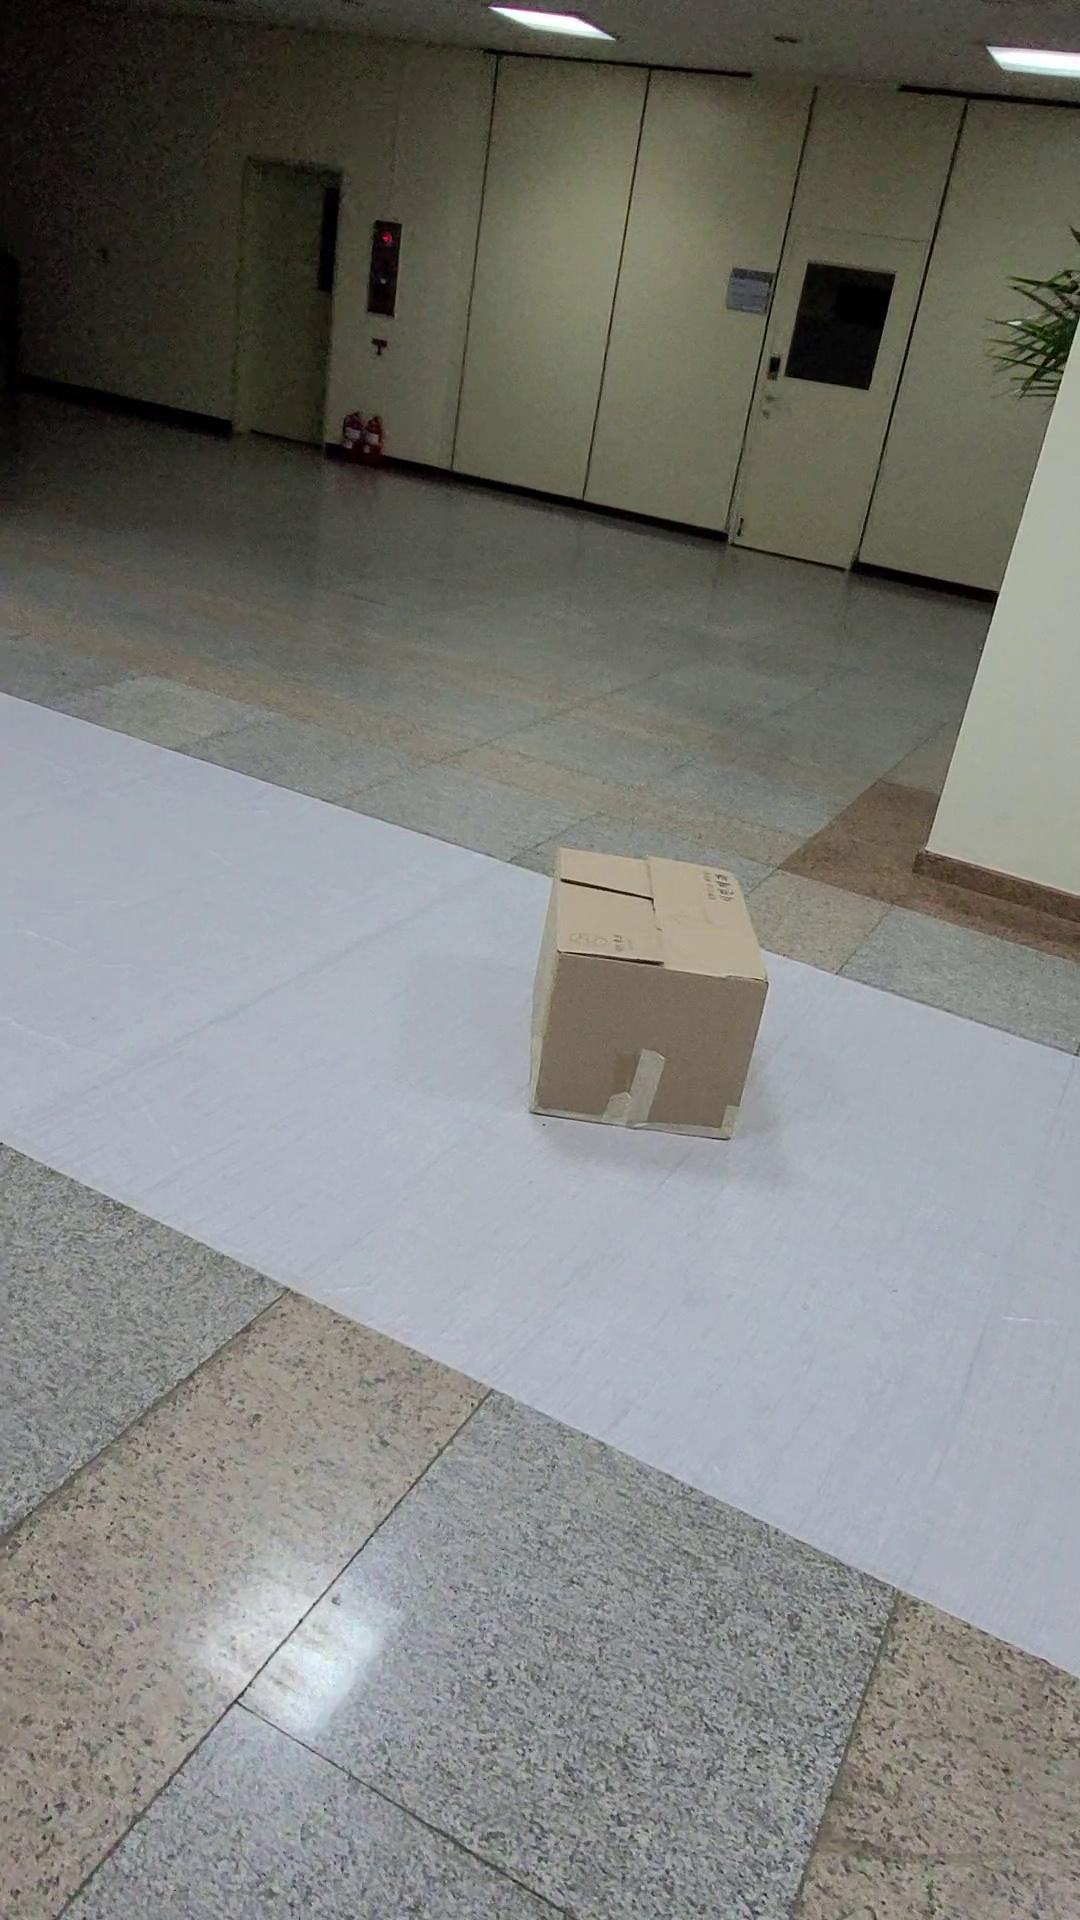Box: (512, 837, 771, 1174)
